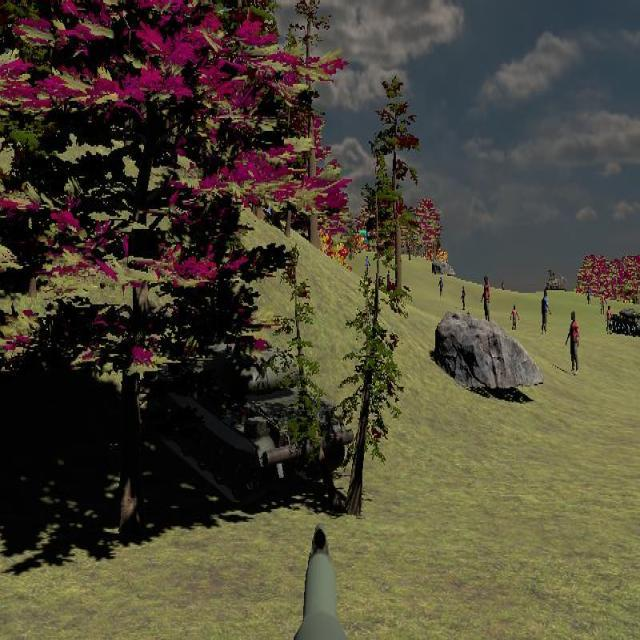Tank: (610, 307, 640, 337)
